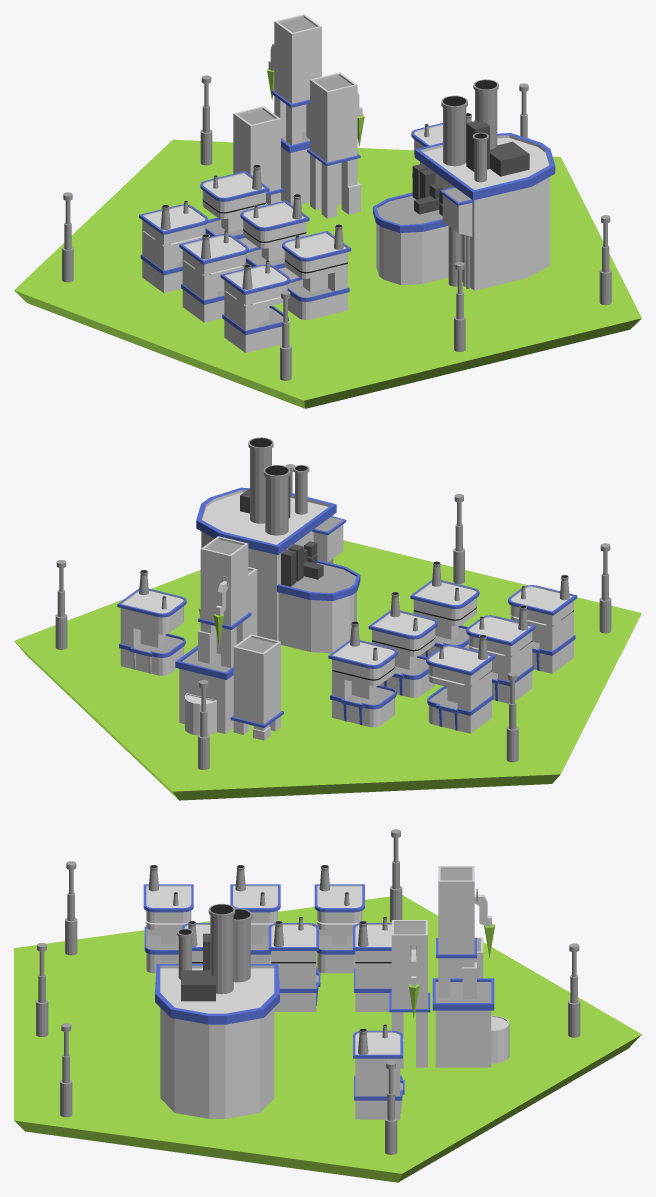
Rendered from VilleSpace_1.fbx.
3 views of the same model, one above another, from view 1: azimuth 30°, elevation 25°; view 2: azimuth 150°, elevation 25°; view 3: azimuth 270°, elevation 25° (orthographic). The views are drawn at different scales.
Visible parts, largest first — view 1: tiles; view 2: tiles; view 3: tiles.
Part boxes in pixels (left/top/right/bottom): tiles: left=14, top=14, right=641, bottom=408; tiles: left=14, top=437, right=641, bottom=800; tiles: left=14, top=829, right=641, bottom=1182.
Bounding box in the file's own units: 111 × 36.38 × 105.
